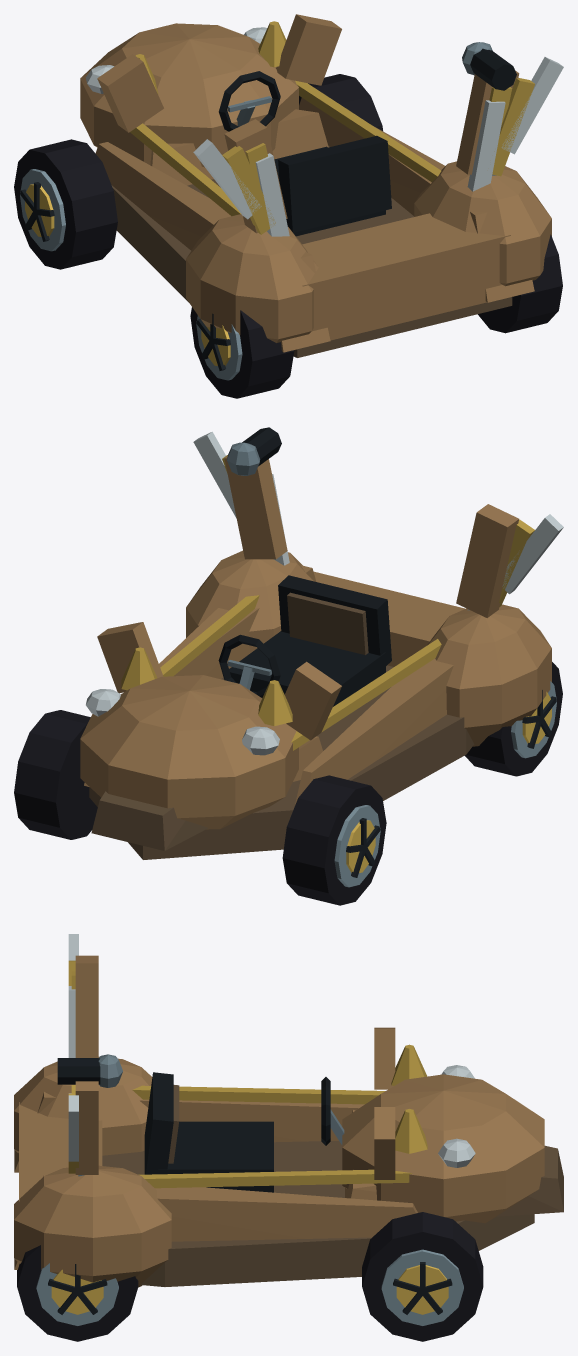
Rendered from kart.glb.
3 renders of one model, top to bottom at view 1: azimuth 30°, elevation 25°; view 2: azimuth 150°, elevation 25°; view 3: azimuth 270°, elevation 25°, orthographic. The views are drawn at different scales.
Parts seen in each view (by area): view 1: identity-beast-beast-sculpted-prow-and-haunches, wheel-front-left, identity-beast-driver-cockpit, identity-beast-motif-feathers, wheel-rear-left, identity-beast-motif-ears, wheel-rear-right, wheel-front-right, identity-beast-motif-microphone; view 2: identity-beast-beast-sculpted-prow-and-haunches, identity-beast-driver-cockpit, wheel-front-left, identity-beast-motif-ears, wheel-front-right, wheel-rear-left, identity-beast-motif-feathers, identity-beast-motif-microphone; view 3: identity-beast-beast-sculpted-prow-and-haunches, wheel-front-right, identity-beast-driver-cockpit, wheel-rear-right, identity-beast-motif-ears, identity-beast-motif-feathers, identity-beast-motif-microphone.
Part boxes in pixels (x1,y1,x2,y2): identity-beast-beast-sculpted-prow-and-haunches: (80, 14, 551, 357); wheel-front-left: (14, 139, 117, 269); identity-beast-driver-cockpit: (218, 71, 391, 236); identity-beast-motif-feathers: (193, 57, 563, 236); wheel-rear-left: (190, 307, 294, 398); identity-beast-motif-ears: (224, 70, 519, 233); wheel-rear-right: (478, 234, 562, 333); wheel-front-right: (299, 74, 382, 130); identity-beast-motif-microphone: (462, 42, 516, 175); identity-beast-beast-sculpted-prow-and-haunches: (80, 550, 551, 859); identity-beast-driver-cockpit: (218, 575, 391, 706); wheel-front-left: (282, 775, 386, 905); identity-beast-motif-ears: (224, 456, 519, 617); wheel-front-right: (14, 710, 97, 839); wheel-rear-left: (464, 662, 562, 776); identity-beast-motif-feathers: (193, 431, 563, 610); identity-beast-motif-microphone: (227, 427, 281, 475); identity-beast-beast-sculpted-prow-and-haunches: (14, 1027, 563, 1287); wheel-front-right: (362, 1212, 483, 1341); identity-beast-driver-cockpit: (144, 1072, 344, 1192); wheel-rear-right: (17, 1245, 138, 1341); identity-beast-motif-ears: (71, 955, 98, 1174); identity-beast-motif-feathers: (68, 934, 78, 1173); identity-beast-motif-microphone: (57, 1054, 122, 1176).
Size of the model in its own units: 2.18 by 1.57 by 2.9.
